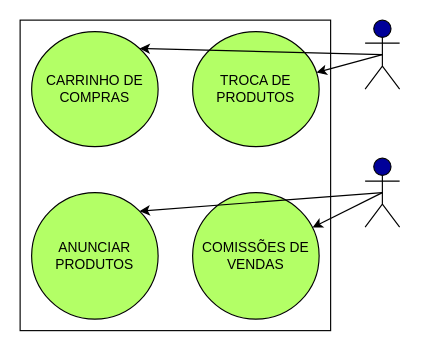
This 447x351 diagram has some shape labels left out. Here are the shapes that lost their labels. From the top down, the centre of each, then its label:
(x=382, y=54): COMPRADOR
(x=382, y=192): VENDEDOR
